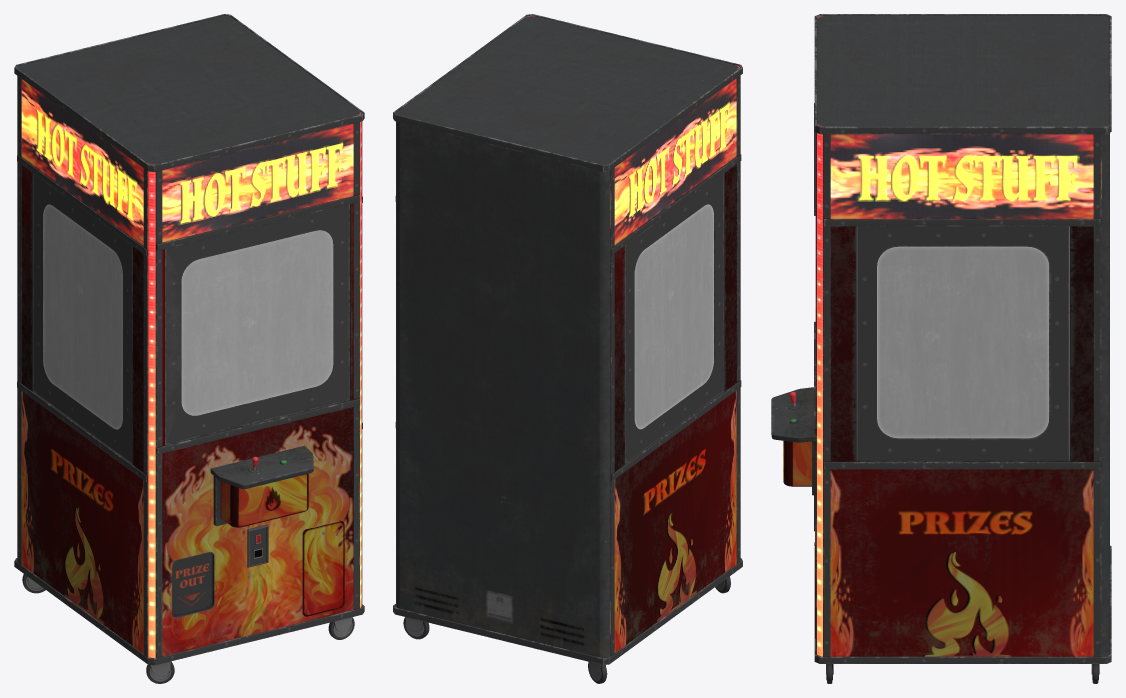
File: SM_Claw_Machine_01.fbx
3 renders of one model, left to right at view 1: azimuth 30°, elevation 25°; view 2: azimuth 150°, elevation 25°; view 3: azimuth 270°, elevation 25°, orthographic. The views are drawn at different scales.
Visible parts, largest first — view 1: SM_Claw_Machine_01_LOD0; view 2: SM_Claw_Machine_01_LOD0; view 3: SM_Claw_Machine_01_LOD0.
Part boxes in pixels (bbox=[...]): SM_Claw_Machine_01_LOD0: bbox=[14, 14, 364, 683]; SM_Claw_Machine_01_LOD0: bbox=[393, 14, 742, 683]; SM_Claw_Machine_01_LOD0: bbox=[771, 14, 1111, 683].
Size of the model in its own units: 91.81 by 116 by 212.
Materials: 3 (3 with a texture image).
